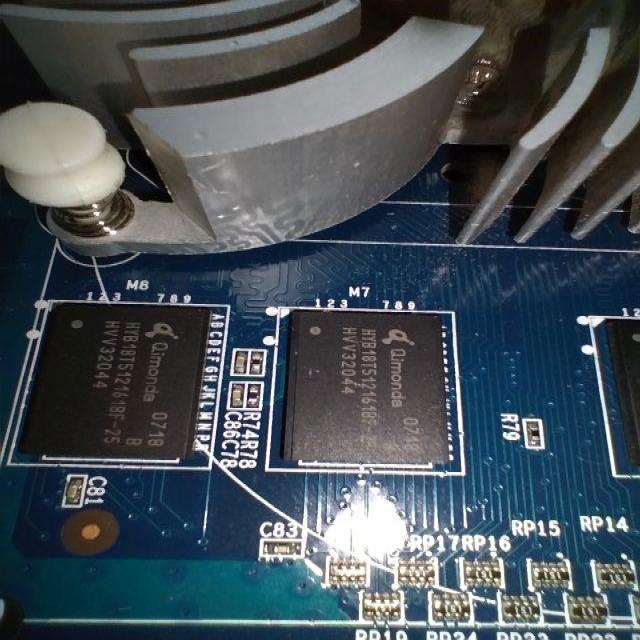capacitor: (234, 346, 248, 376)
resistor: (518, 408, 551, 457), (246, 374, 264, 415), (248, 345, 267, 379)
